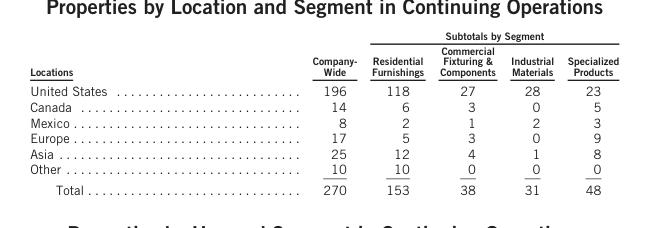table: (29, 28, 618, 196)
table column: (29, 28, 208, 196), (208, 28, 363, 196), (431, 28, 502, 196), (363, 28, 431, 196), (559, 28, 618, 196), (502, 28, 559, 196)
table column header: (29, 28, 618, 80)
table row: (29, 42, 618, 80), (29, 80, 618, 98), (29, 160, 618, 178), (29, 178, 618, 196), (29, 113, 618, 129), (29, 129, 618, 145), (29, 98, 618, 113), (29, 145, 618, 160), (29, 28, 618, 42)
table spanning cell: (29, 28, 208, 80), (208, 28, 363, 80), (363, 28, 618, 42)
